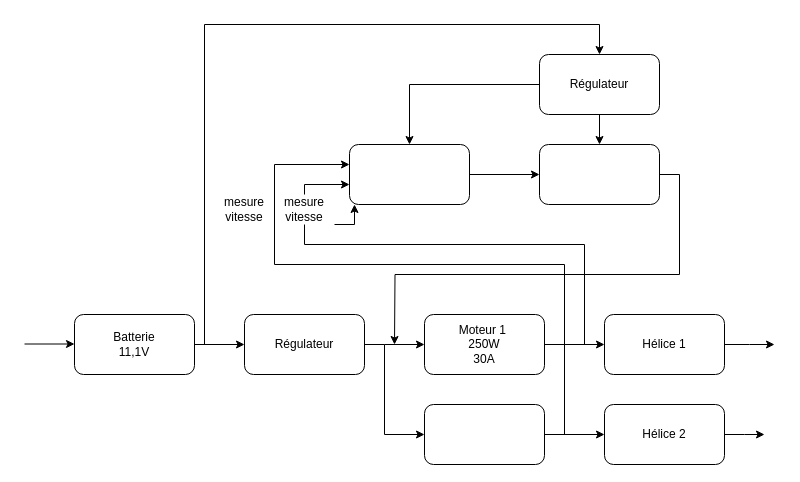
Image size: 800x482. Some labels were removed from this diagram. Each missing label, with the centre of its shape:
"Centrale inertielle 3,3V" belongs at pixel 409 174.
"Microprocesseur STM32H7A3" belongs at pixel 599 174.
"Moteur 2 250W 30A" belongs at pixel 484 434.
